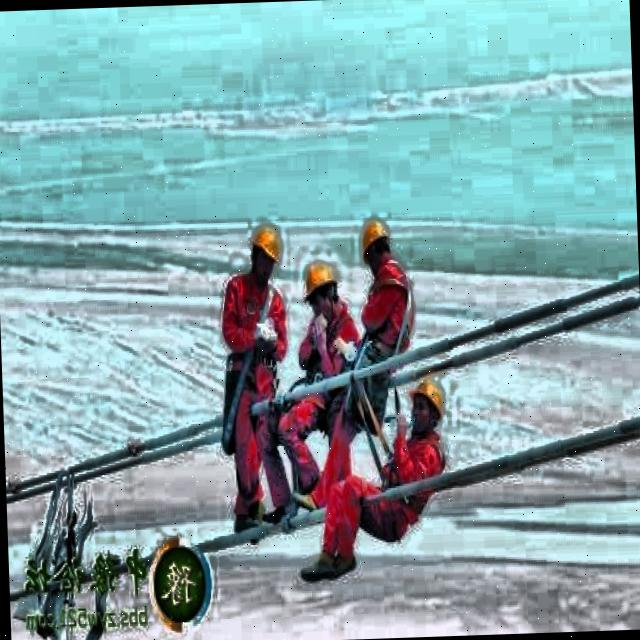helmet: (301, 255, 342, 325), (409, 372, 451, 437), (246, 218, 283, 284), (358, 214, 392, 272)
